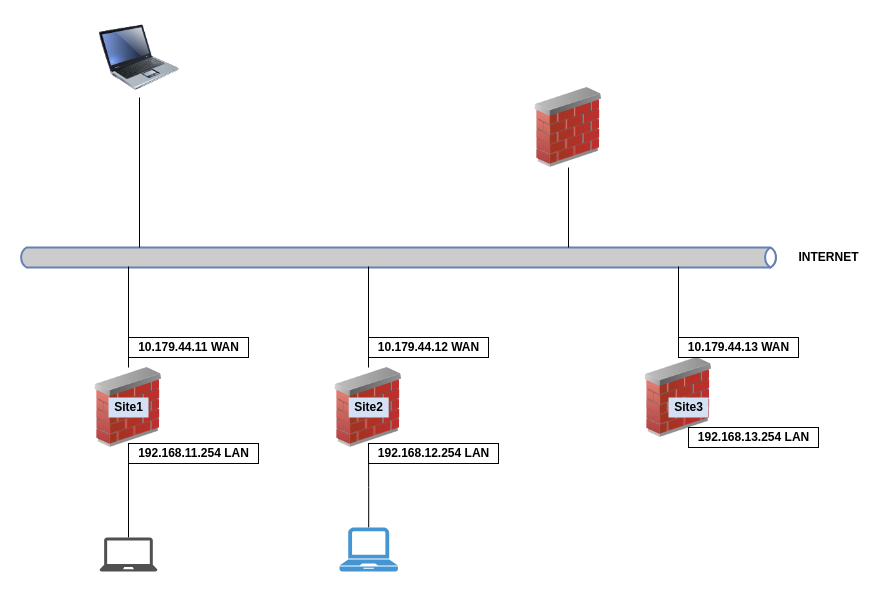
Image size: 885x609. Some labels were removed from this diagram. Each missing label, with the box of its shape:
GATEWAY: (528, 87, 608, 167)
My PC: (99, 17, 179, 97)
testvm01: (99, 537, 157, 571)
testvm02: (339, 527, 397, 571)
